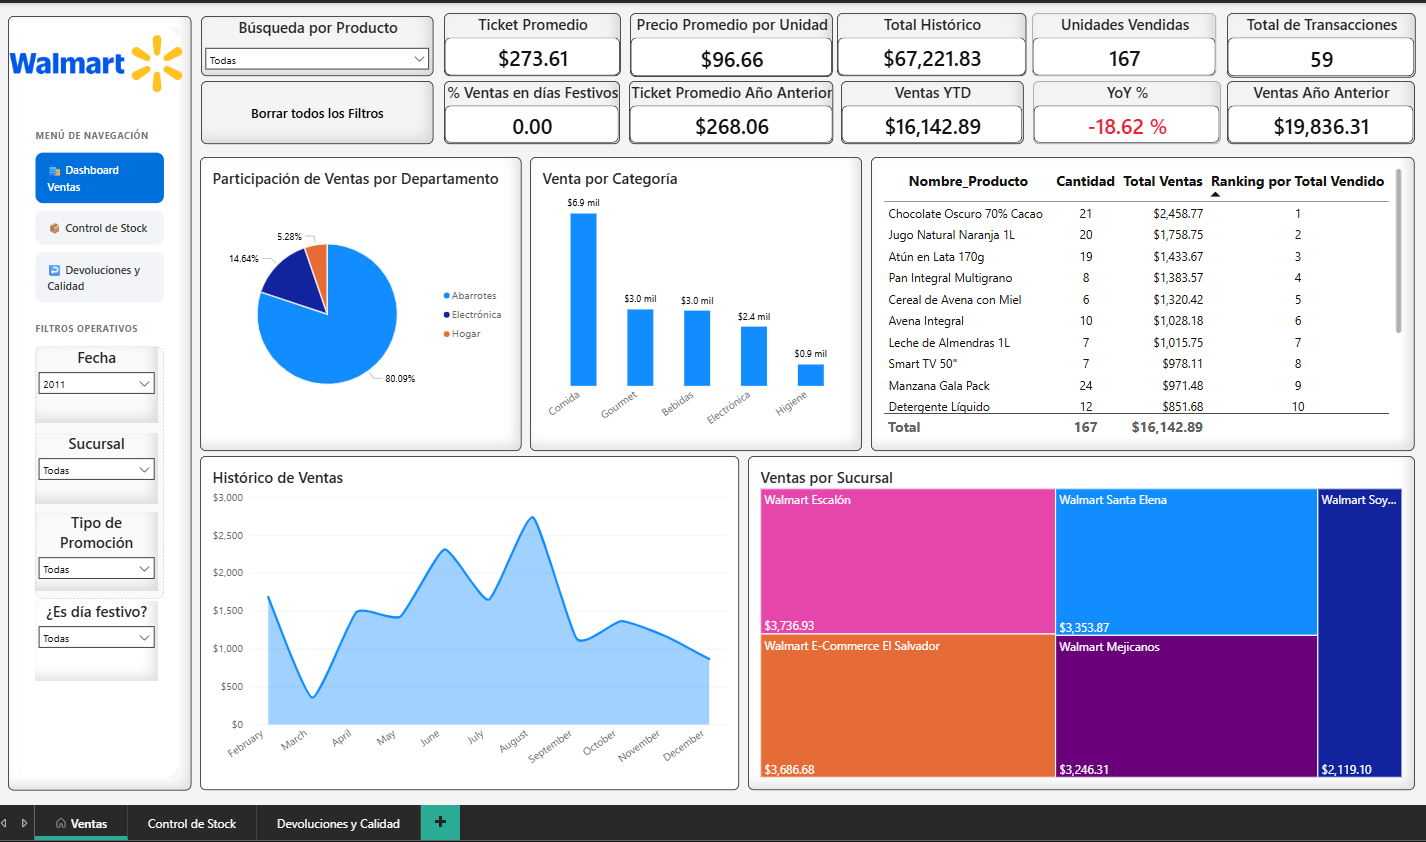

Layout of this report page (visuals, bound fields, positions):
{"tool":"powerbi","page":{"name":"Ventas","canvas":[1920,1080],"ordinal":0},"visuals":[{"type":"htmlContent443BE3AD55E043BF878BED274D3A6865","fields":{"content":["Medidas.Barra_Lateral_Ventas"]},"box":[10.9,17.2,247,1042.9],"z":0},{"type":"cardVisual","title":"Total de Transacciones","fields":{"Data":["Medidas.Numero de Transacciones"]},"box":[1652.4,13.9,253.7,86.9],"z":1000},{"type":"cardVisual","title":"Unidades Vendidas","fields":{"Data":["Medidas.Total Unidades Vendidas"]},"box":[1390,13.9,248.5,85.1],"z":2000},{"type":"cardVisual","title":"Ticket Promedio","fields":{"Data":["Medidas.Ticket Promedio"]},"box":[597.7,13.9,238,85.1],"z":3000},{"type":"cardVisual","title":"Precio Promedio por Unidad","fields":{"Data":["Medidas.Precio Promedio por Unidad"]},"box":[848.4,13.5,273.4,86.2],"z":4000},{"type":"tableEx","fields":{"Values":["vDim_Productos.Nombre_Producto","Sum(vFact_Ventas.Cantidad)","Medidas.Total Ventas","Medidas.Ranking Productos por Ventas"]},"box":[1172.9,206.8,731.5,396.2],"z":5000},{"type":"columnChart","title":"Venta por Categoría","fields":{"Category":["vDim_Productos.Categoria"],"Y":["Medidas.Total Ventas"]},"box":[714.1,206.8,446.6,396.2],"z":6000},{"type":"pieChart","title":"Participación de Ventas por Departamento","fields":{"Category":["vDim_Departamentos.Nombre_Departamento"],"Y":["Medidas.Total Ventas"]},"box":[269.3,206.8,432.7,396.2],"z":7000},{"type":"lineChart","title":"Histórico de Ventas","fields":{"Category":["vDim_Calendario.Anio Jerarquía.Anio","vDim_Calendario.Anio Jerarquía.Nombre_Mes"],"Y":["Medidas.Total Ventas"]},"box":[269.8,610.6,726.5,449.7],"z":8000},{"type":"treemap","title":"Ventas por Sucursal","fields":{"Group":["vDim_Tiendas.Nombre_Tienda"],"Values":["Medidas.Total Ventas"]},"box":[1006.7,610.6,897.7,449.7],"z":9000},{"type":"actionButton","title":"Ventas","box":[39.8,195.5,190.3,83],"z":10000},{"type":"image","box":[0,13.9,258,135],"z":11000},{"type":"actionButton","title":"Ventas","box":[34.6,278.5,190.3,48.4],"z":12000},{"type":"actionButton","title":"Ventas","box":[34.6,342.5,190.3,65.7],"z":13000},{"type":"slicer","title":"Fecha","fields":{"Values":["vDim_Calendario.Anio","vDim_Calendario.Nombre_Mes"]},"box":[46.9,462.8,165.7,101.6],"z":14000},{"type":"slicer","title":"Sucursal","fields":{"Values":["vDim_Tiendas.Nombre_Tienda"]},"box":[46.9,578.5,165.7,95.4],"z":15000},{"type":"slicer","title":"Tipo de Promoción","fields":{"Values":["vDim_Promociones.Tipo_Promocion"]},"box":[46.9,684.8,165.7,106.3],"z":16000},{"type":"slicer","title":"¿Es día festivo?","fields":{"Values":["vDim_Calendario.Es_Festivo"]},"box":[46.9,805.2,165.7,107.9],"z":17000},{"type":"cardVisual","title":"Ventas Año Anterior","fields":{"Data":["Medidas.Ventas_Año_Anterior_Supr_Inteligente"]},"box":[1651.9,105.5,252.5,84.8],"z":18000},{"type":"cardVisual","title":"YoY %","fields":{"Data":["Medidas.YoY_Porcentaje_Seguro"]},"box":[1390.7,105.5,252.5,84.8],"z":19000},{"type":"cardVisual","title":"Ventas YTD","fields":{"Data":["Medidas.Ventas YTD"]},"box":[1133,105.5,245.6,84.8],"z":20000},{"type":"cardVisual","title":"Ticket Promedio Año Anterior","fields":{"Data":["Medidas.Ticket_Promedio_Año_Anterior_Seguro"]},"box":[847.6,105.5,275,84.8],"z":21000},{"type":"cardVisual","title":"% Ventas en días Festivos","fields":{"Data":["Medidas.Porcentaje_Ventas_Festivos_Seguro"]},"box":[598.5,105.5,237,84.8],"z":22000},{"type":"cardVisual","title":"Total Histórico","fields":{"Data":["Medidas.Ventas_Totales_Historicas"]},"box":[1127.7,13.9,255.4,85.1],"z":23000},{"type":"slicer","title":"Búsqueda por Producto","fields":{"Values":["vDim_Productos.Nombre_Producto"]},"box":[270.1,17.3,313.4,81.4],"z":24000},{"type":"actionButton","box":[270.1,105.6,313.4,84.8],"z":25000}]}

Visuals, with their boxes on the page's 1920x1080 design canvas (x1, y1, x2, y2). These are canvas units, not pixel positions in the 1426x842 screenshot, which may show the page scaled, cropped or inside an application window:
htmlContent443BE3AD55E043BF878BED274D3A6865 - Medidas.Barra_Lateral_Ventas: select_region(11, 17, 258, 1060)
"Total de Transacciones" cardVisual: select_region(1652, 14, 1906, 101)
"Unidades Vendidas" cardVisual: select_region(1390, 14, 1638, 99)
"Ticket Promedio" cardVisual: select_region(598, 14, 836, 99)
"Precio Promedio por Unidad" cardVisual: select_region(848, 14, 1122, 100)
tableEx - vDim_Productos.Nombre_Producto x Sum(vFact_Ventas.Cantidad): select_region(1173, 207, 1904, 603)
"Venta por Categoría" columnChart: select_region(714, 207, 1161, 603)
"Participación de Ventas por Departamento" pieChart: select_region(269, 207, 702, 603)
"Histórico de Ventas" lineChart: select_region(270, 611, 996, 1060)
"Ventas por Sucursal" treemap: select_region(1007, 611, 1904, 1060)
"Ventas" actionButton: select_region(40, 196, 230, 278)
image: select_region(0, 14, 258, 149)
"Ventas" actionButton: select_region(35, 278, 225, 327)
"Ventas" actionButton: select_region(35, 342, 225, 408)
"Fecha" slicer: select_region(47, 463, 213, 564)
"Sucursal" slicer: select_region(47, 578, 213, 674)
"Tipo de Promoción" slicer: select_region(47, 685, 213, 791)
"¿Es día festivo?" slicer: select_region(47, 805, 213, 913)
"Ventas Año Anterior" cardVisual: select_region(1652, 106, 1904, 190)
"YoY %" cardVisual: select_region(1391, 106, 1643, 190)
"Ventas YTD" cardVisual: select_region(1133, 106, 1379, 190)
"Ticket Promedio Año Anterior" cardVisual: select_region(848, 106, 1123, 190)
"% Ventas en días Festivos" cardVisual: select_region(598, 106, 836, 190)
"Total Histórico" cardVisual: select_region(1128, 14, 1383, 99)
"Búsqueda por Producto" slicer: select_region(270, 17, 584, 99)
actionButton: select_region(270, 106, 584, 190)
